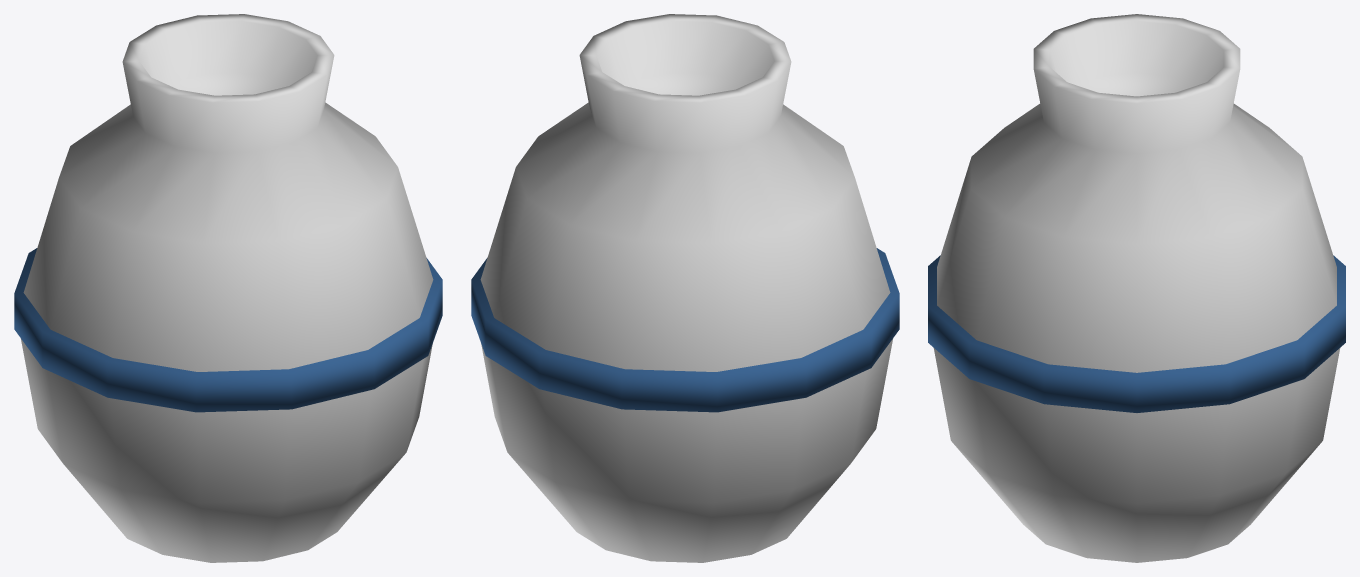
File: pot_v0.glb
The picture shows the model from 3 angles, left to right: view 1: azimuth 30°, elevation 25°; view 2: azimuth 150°, elevation 25°; view 3: azimuth 270°, elevation 25°; orthographic projection.
Visible parts, largest first — view 1: clay_pot_v0; view 2: clay_pot_v0; view 3: clay_pot_v0.
Part boxes in pixels (x1,y1,x2,y2): clay_pot_v0: (14, 14, 442, 562); clay_pot_v0: (471, 14, 899, 562); clay_pot_v0: (928, 14, 1345, 562).
Size of the model in its own units: 0.768 by 0.8996 by 0.7488.
